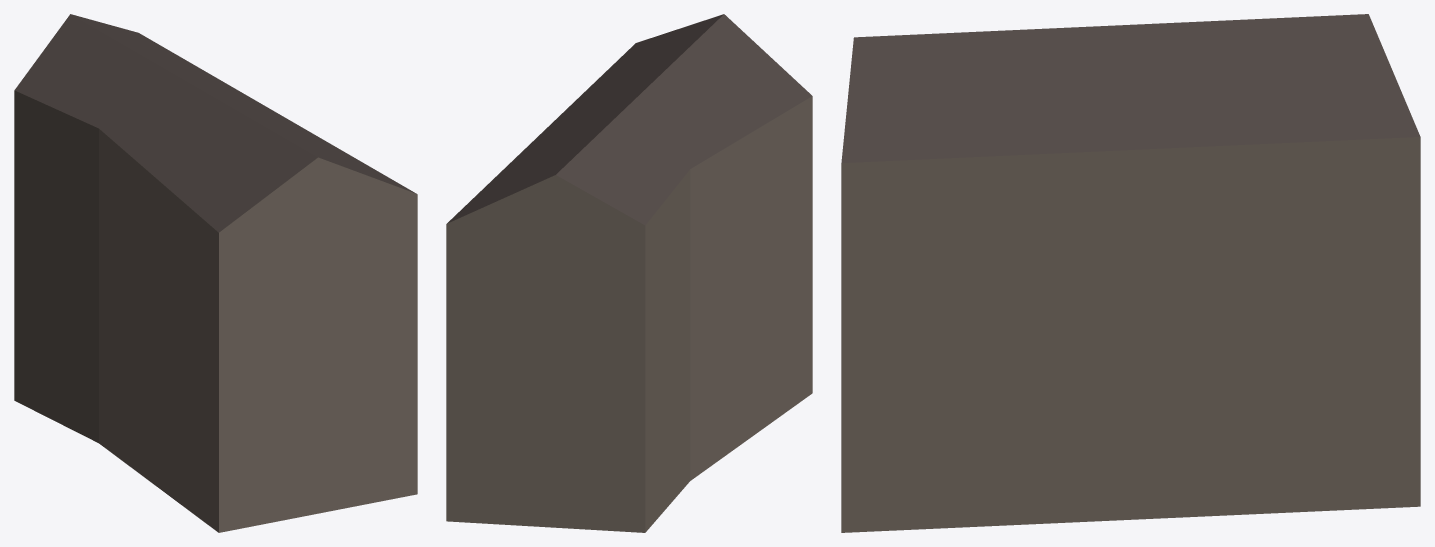
The picture shows the model from 3 angles, left to right: view 1: azimuth 30°, elevation 25°; view 2: azimuth 150°, elevation 25°; view 3: azimuth 270°, elevation 25°; orthographic projection. The views are drawn at different scales.
Visible parts, largest first — view 1: HP-w1515071157; view 2: HP-w1515071157; view 3: HP-w1515071157.
Boxes of the visible parts, bbox=[...] form: HP-w1515071157: bbox=[14, 14, 417, 532]; HP-w1515071157: bbox=[446, 14, 812, 532]; HP-w1515071157: bbox=[841, 14, 1420, 532].
Size of the model in its own units: 4.32 by 7.12 by 8.52.
